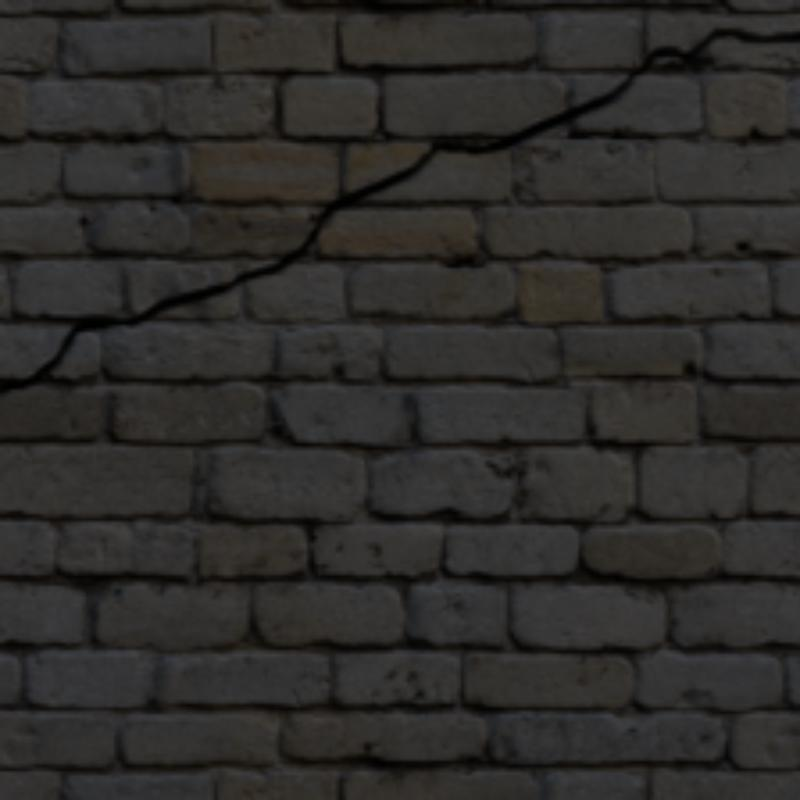pothole: (0, 29, 796, 389)
